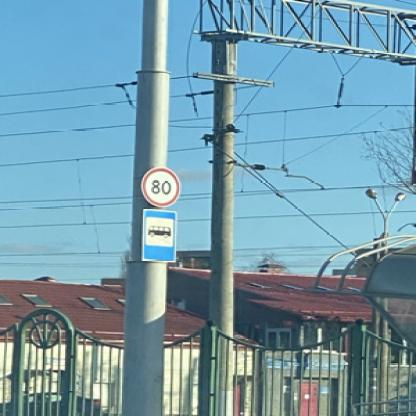speedlimit: (139, 166, 179, 205)
